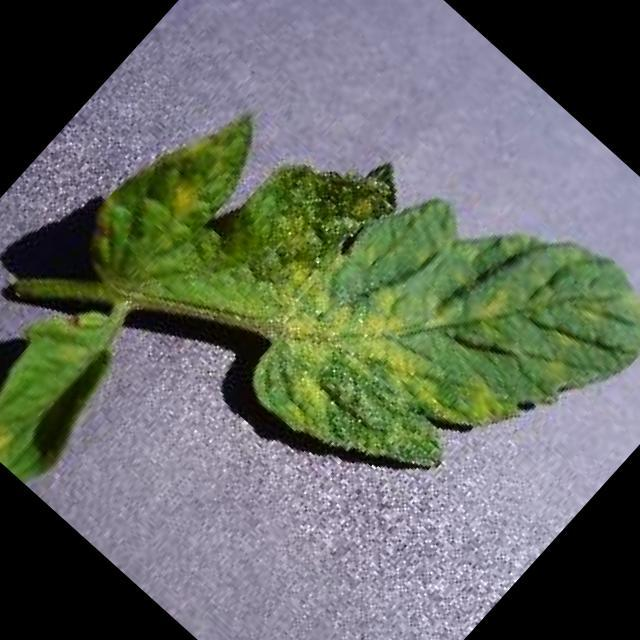Tomato mold leaf: (74, 0, 640, 582)
